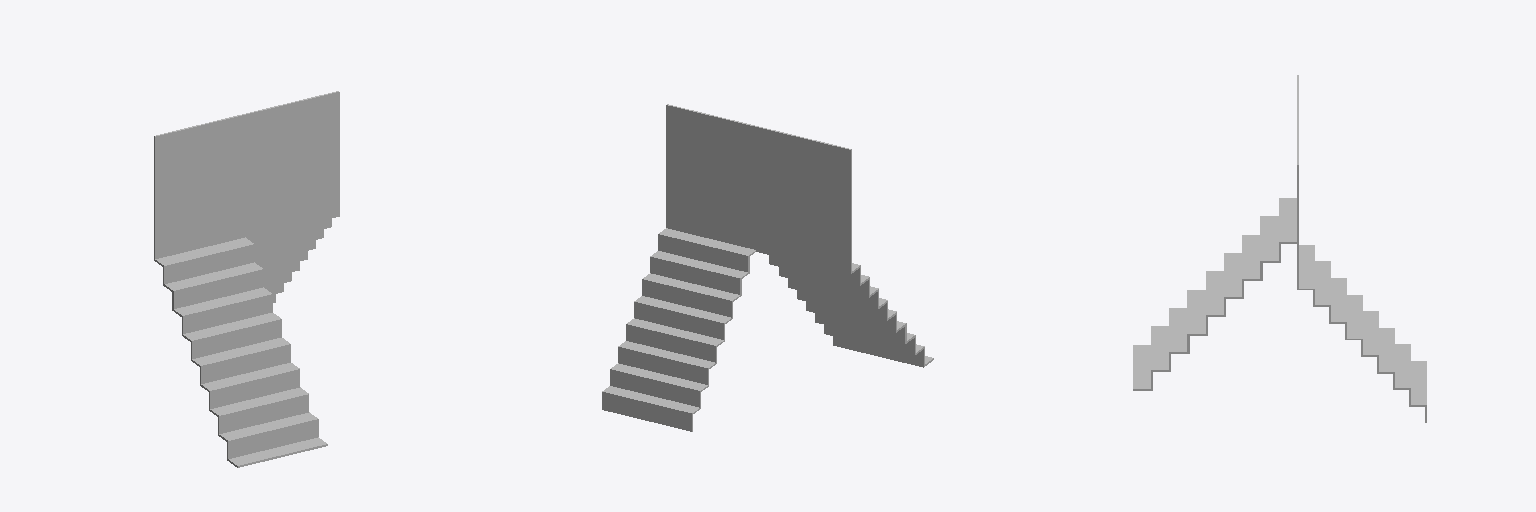
Rendered from Treppe.obj.
3 renders of one model, left to right at view 1: azimuth 30°, elevation 25°; view 2: azimuth 150°, elevation 25°; view 3: azimuth 270°, elevation 25°, orthographic.
Size of the model in its own units: 2318 by 3258 by 3211.